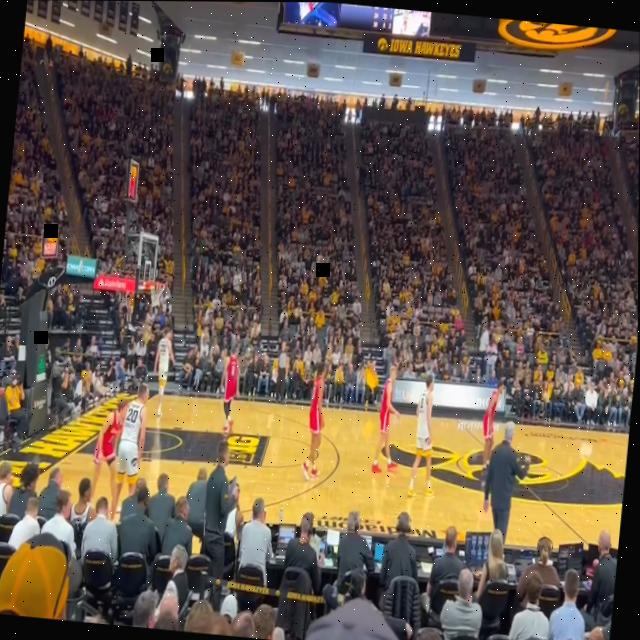basket: (147, 281, 166, 307)
game clock: (48, 232, 58, 242)
head coach: (480, 417, 536, 545)
player-iowa: (110, 380, 151, 525), (407, 372, 446, 499), (150, 325, 178, 417)
player-neb: (86, 394, 132, 512), (371, 362, 407, 474), (301, 361, 331, 481), (215, 344, 244, 435), (481, 377, 505, 444)
referee: (273, 339, 291, 403)
shot clock: (46, 242, 55, 254)
